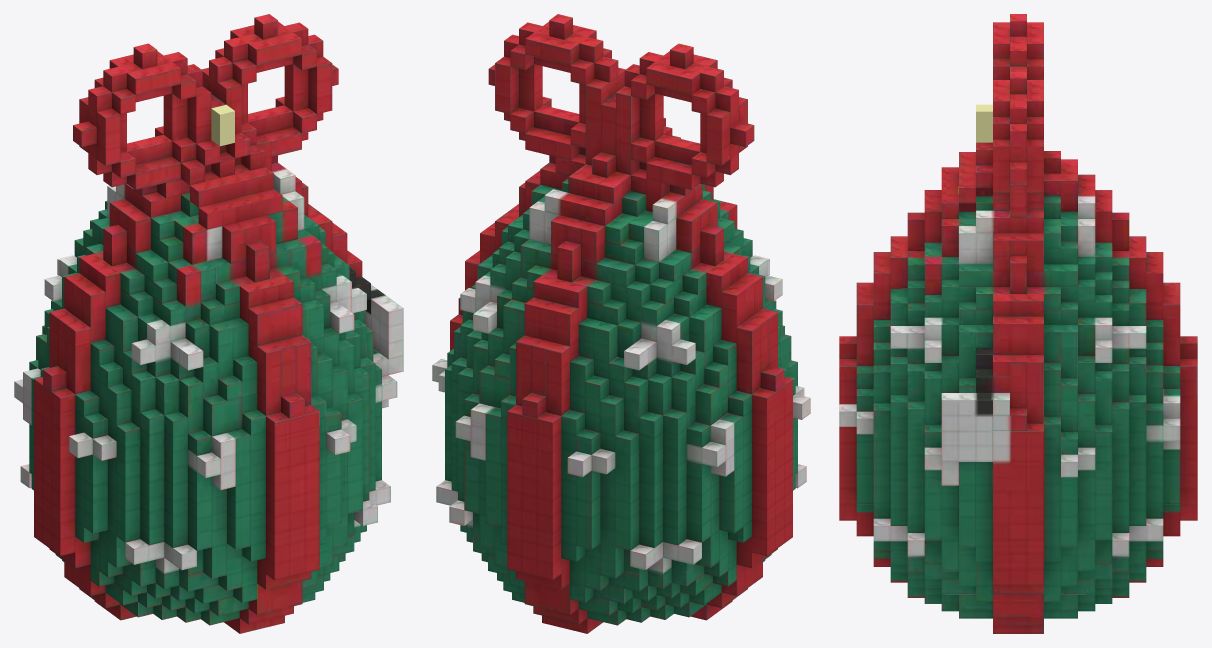
Rendered from gift-box.glb.
The picture shows the model from 3 angles, left to right: view 1: azimuth 30°, elevation 25°; view 2: azimuth 150°, elevation 25°; view 3: azimuth 270°, elevation 25°; orthographic projection. The views are drawn at different scales.
Visible parts, largest first — view 1: Body.009, Glow.008; view 2: Body.009; view 3: Body.009, Glow.008.
Part boxes in pixels (bbox=[...]): Body.009: bbox=[14, 14, 403, 633]; Glow.008: bbox=[211, 104, 234, 146]; Body.009: bbox=[432, 14, 810, 633]; Body.009: bbox=[839, 14, 1197, 633]; Glow.008: bbox=[976, 104, 992, 142].
Size of the model in its own units: 3.15 by 5.25 by 3.15.
2 materials, 1 textured.
